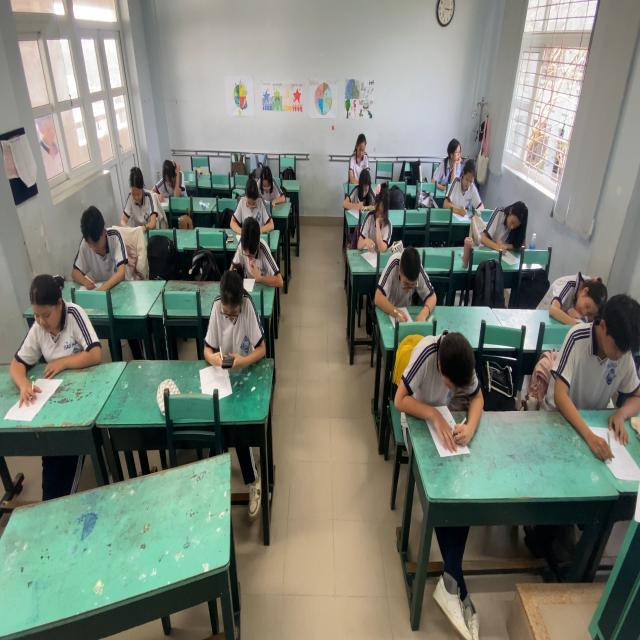not_cheating: (6, 267, 97, 384), (197, 268, 276, 374), (560, 319, 640, 402), (407, 323, 469, 412), (72, 198, 127, 292), (535, 254, 603, 326), (485, 188, 531, 250), (117, 157, 156, 229), (364, 178, 397, 260), (237, 222, 282, 281), (383, 257, 434, 308), (236, 167, 274, 229), (152, 146, 190, 202), (344, 129, 376, 177), (451, 163, 485, 204), (255, 164, 286, 208), (343, 164, 377, 201), (438, 139, 465, 170)
